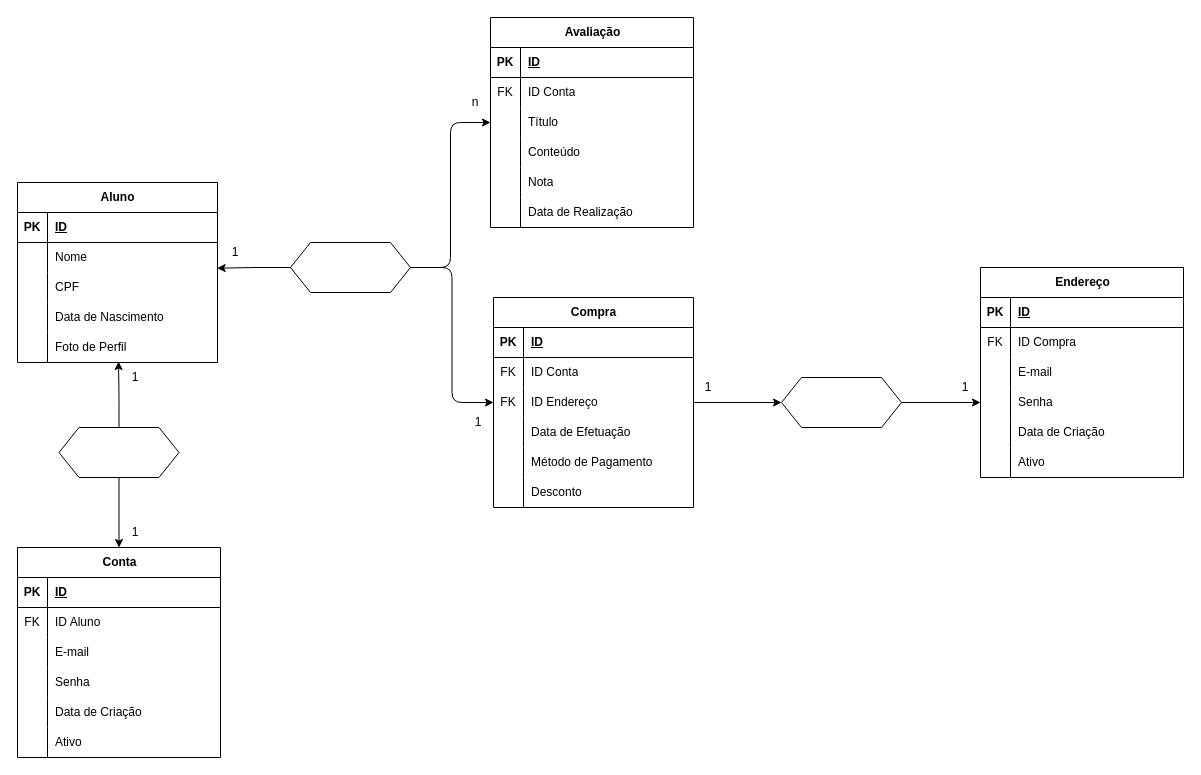
This 1201x775 diagram has some shape labels left out. The shapes that lost their labels are listed below. From the top down, each one's centre as x and y in pixels, then its label:
the point at 350,267: Faz
the point at 841,402: Cobra
the point at 118,452: Possui
